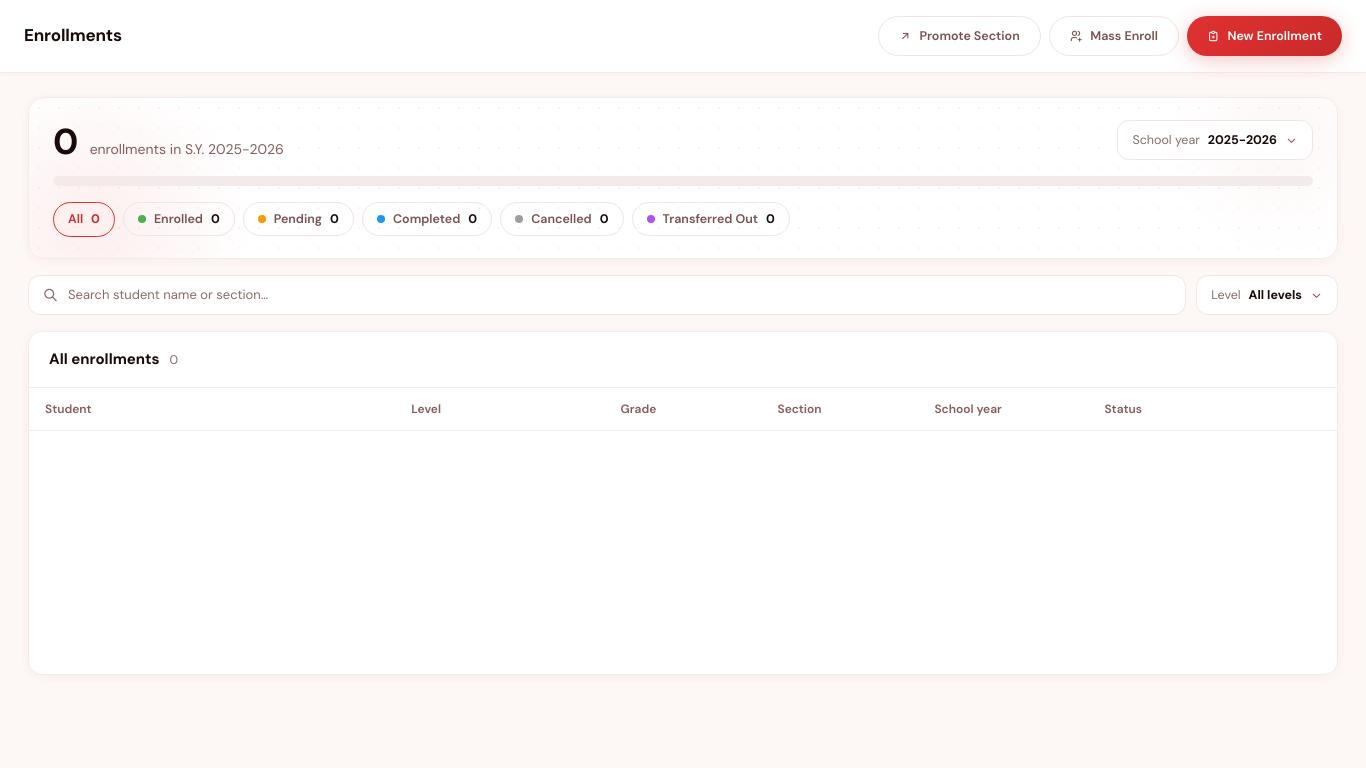
Test case: Promote Section › hands a level crossing to Mass Enroll, opened on the destination grade
The image size is (1366, 768).
Click the button "Promote Section".
click(959, 36)  # box [878, 16, 1041, 56]
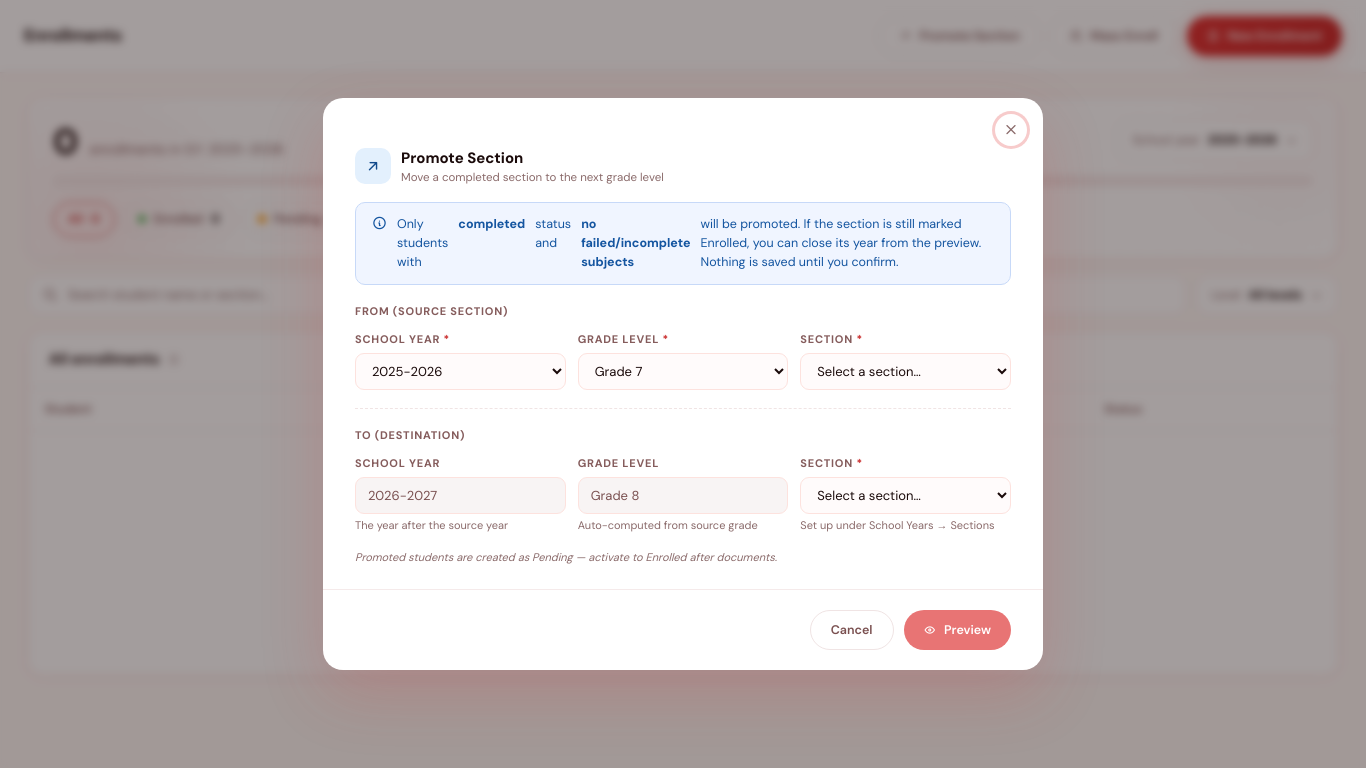
Select "2025-2026" in the 1st dropdown at [460, 371], box [355, 352, 566, 390]
Select "Grade 6" in the 2nd dropdown at [683, 371], box [578, 352, 788, 390]
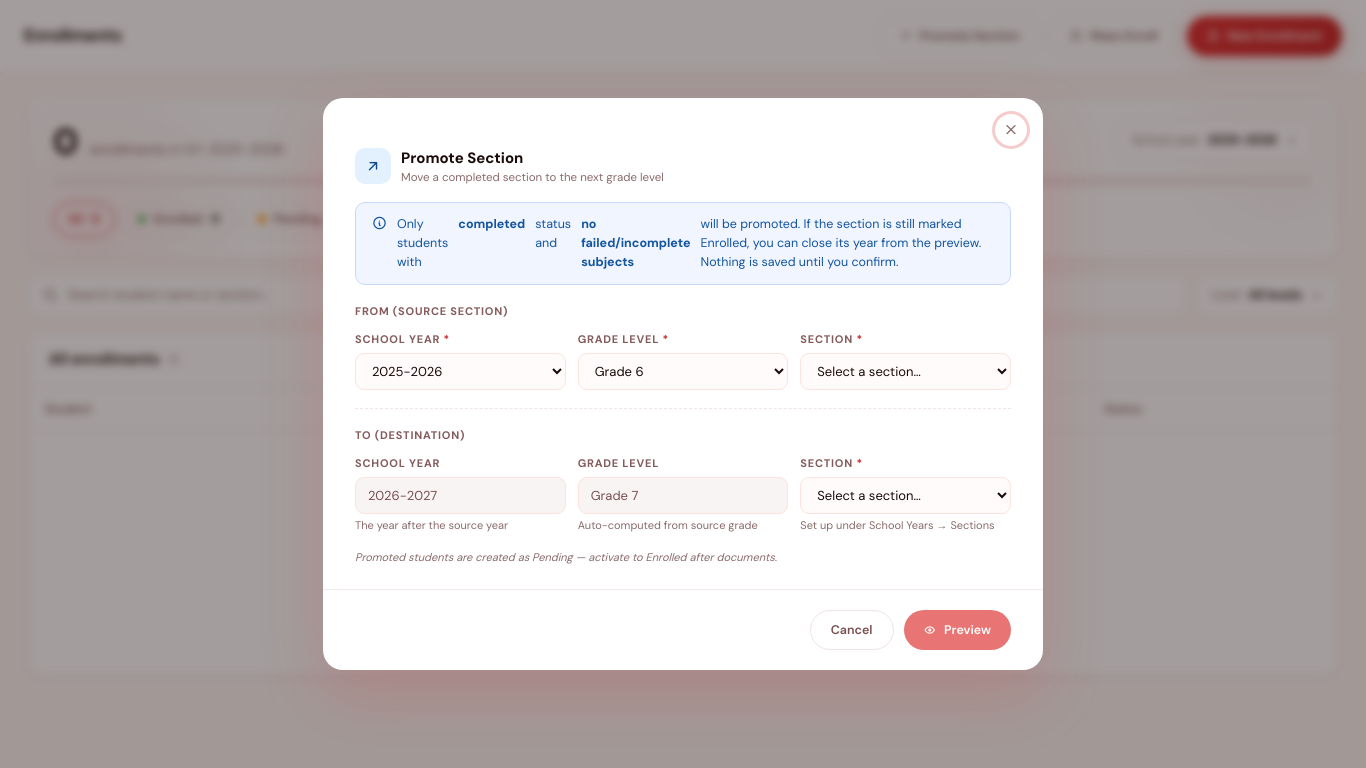
Select "Rizal" in the dropdown named "Source section" at [906, 371], box [800, 352, 1011, 390]
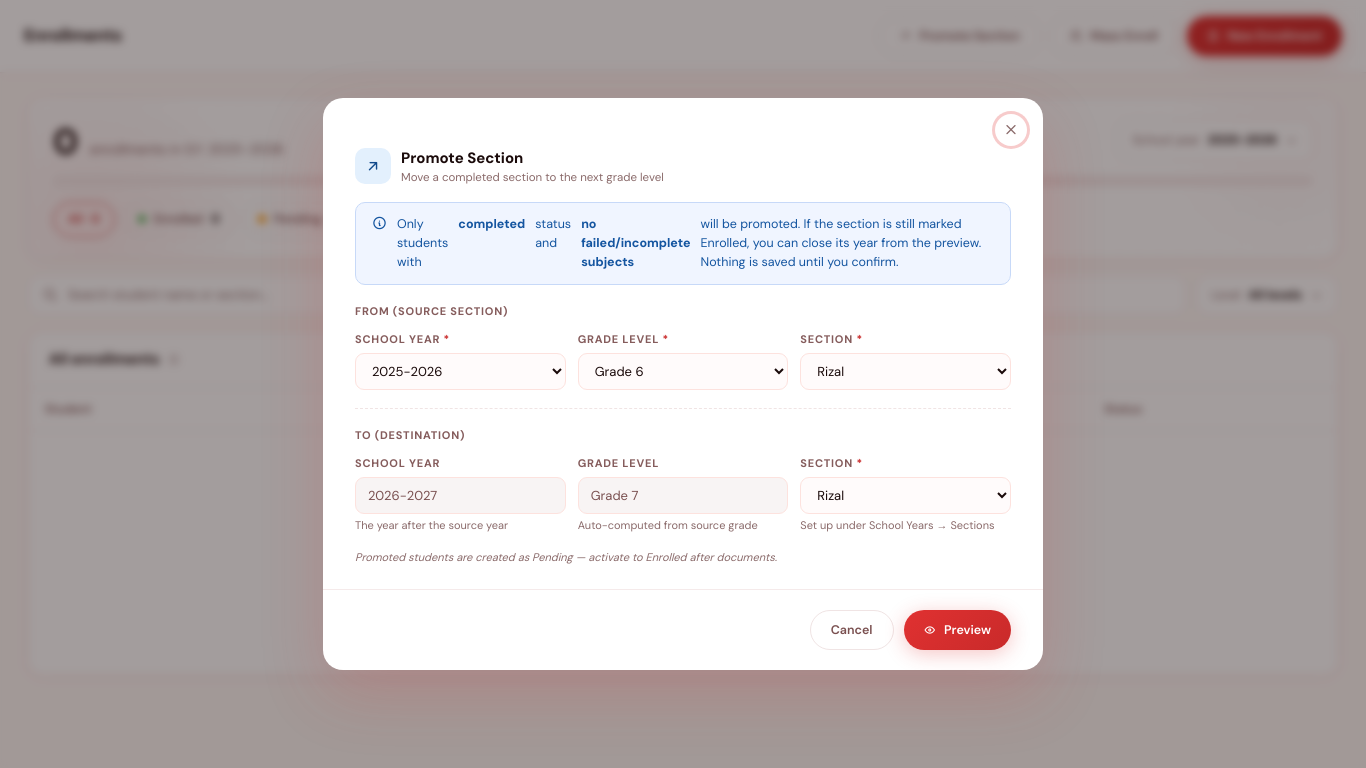
Expected: the field named "Destination school year" holds "2026-2027", [355, 476, 566, 514]
Expected: the dropdown named "Destination section" shows "Rizal", [800, 476, 1011, 514]
Click the button "Preview".
click(957, 630)  # box [904, 610, 1011, 650]
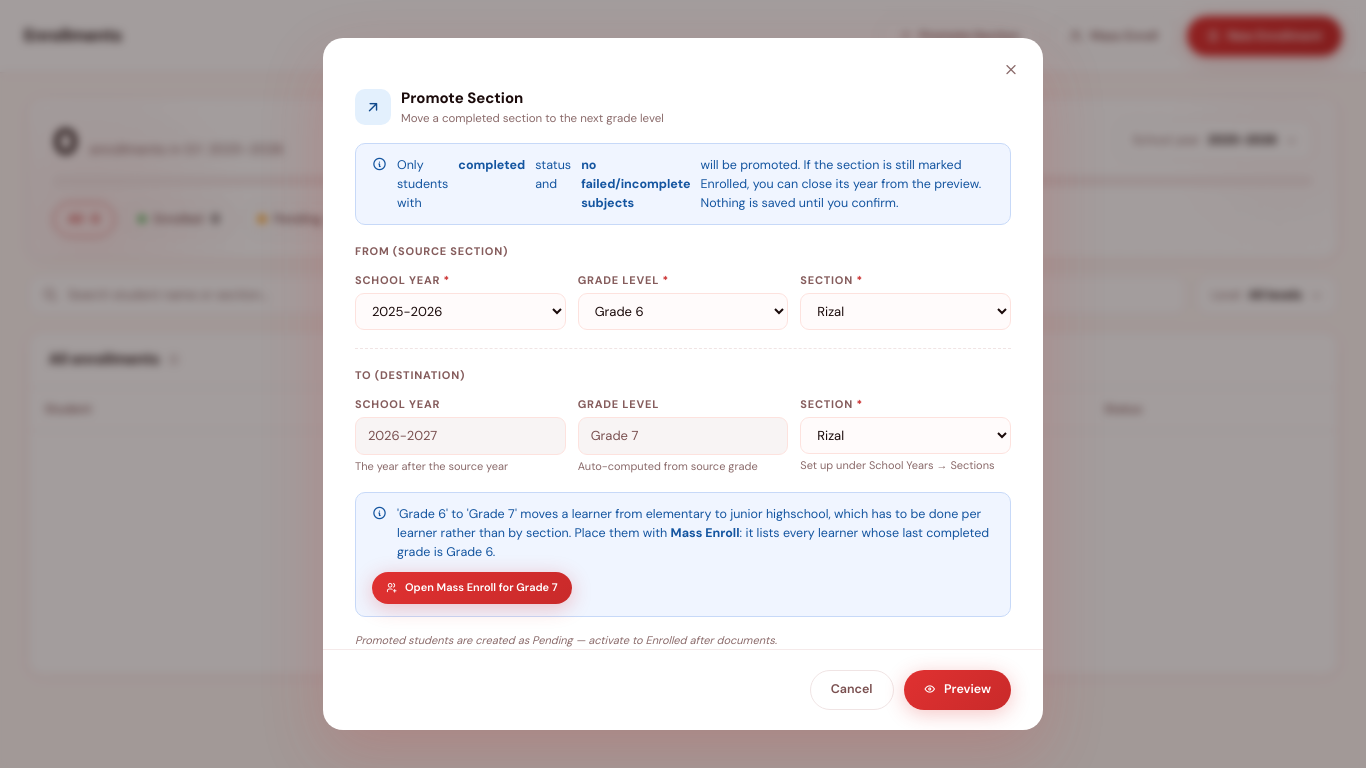
Click the button "Open Mass Enroll for Grade 7".
click(472, 588)  # box [372, 572, 572, 604]
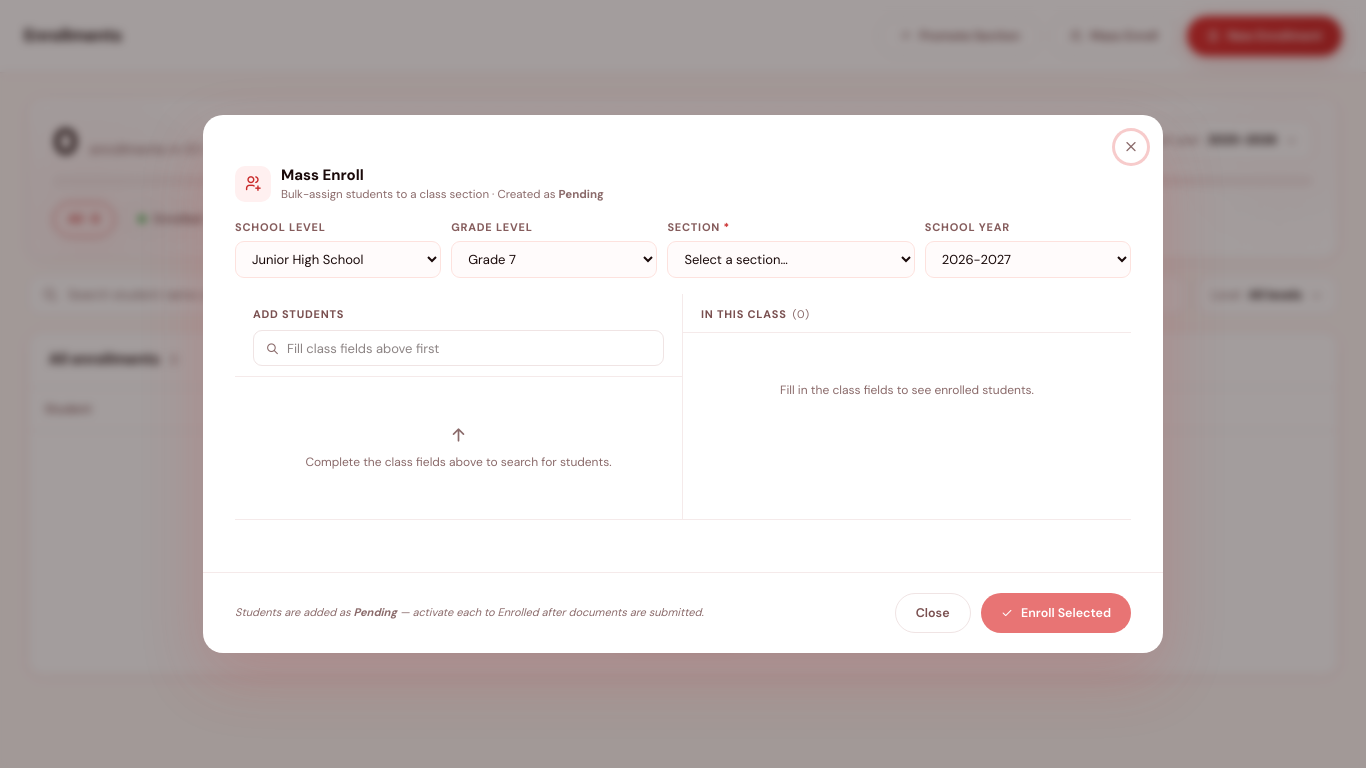
Expected: the 3rd dropdown showing "2026-2027" is shown, [925, 241, 1131, 278]
Expected: the dropdown showing "Junior High School" below "School Level" is shown, [235, 241, 441, 278]
Expected: the dropdown showing "Grade 7" below "Grade Level" is shown, [451, 241, 657, 278]
